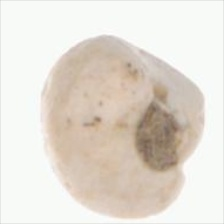L4: (40, 35, 205, 219)
